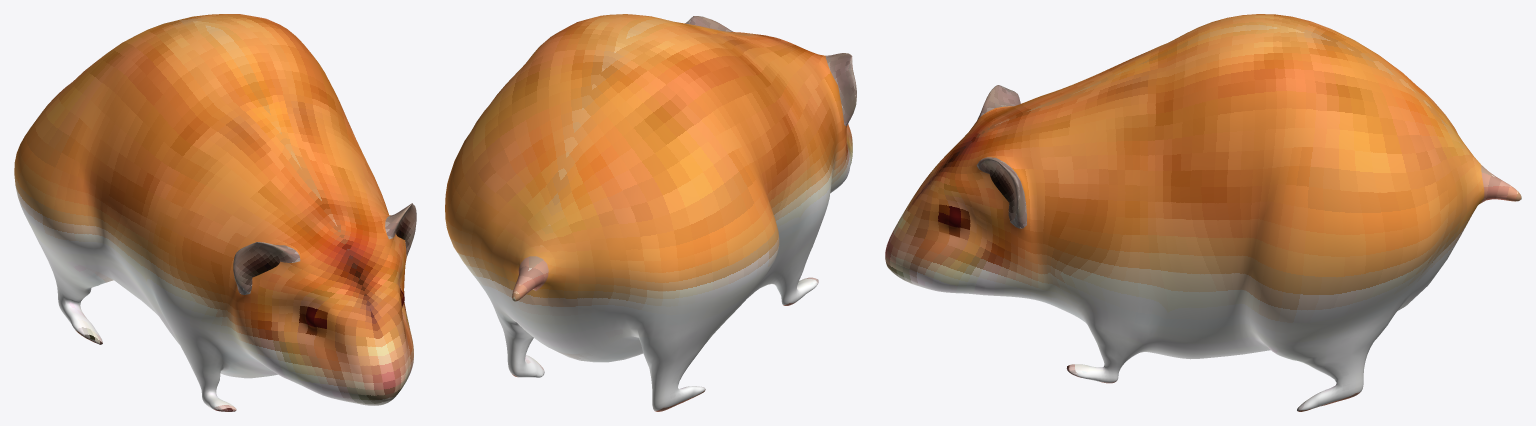
The model's file is fat hammy.fbx.
The picture shows the model from 3 angles, left to right: view 1: azimuth 30°, elevation 25°; view 2: azimuth 150°, elevation 25°; view 3: azimuth 270°, elevation 25°; orthographic projection. The views are drawn at different scales.
Visible parts, largest first — view 1: Hamster; view 2: Hamster; view 3: Hamster.
Boxes of the visible parts, x1,y1,x2,y2 form: Hamster: (14, 14, 416, 411); Hamster: (445, 14, 856, 411); Hamster: (885, 14, 1521, 411).
Bounding box in the file's own units: 6334 × 6961 × 11619.
